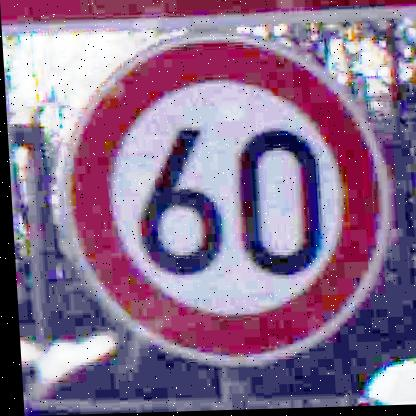Speed Limit -60-: (49, 31, 394, 371)
